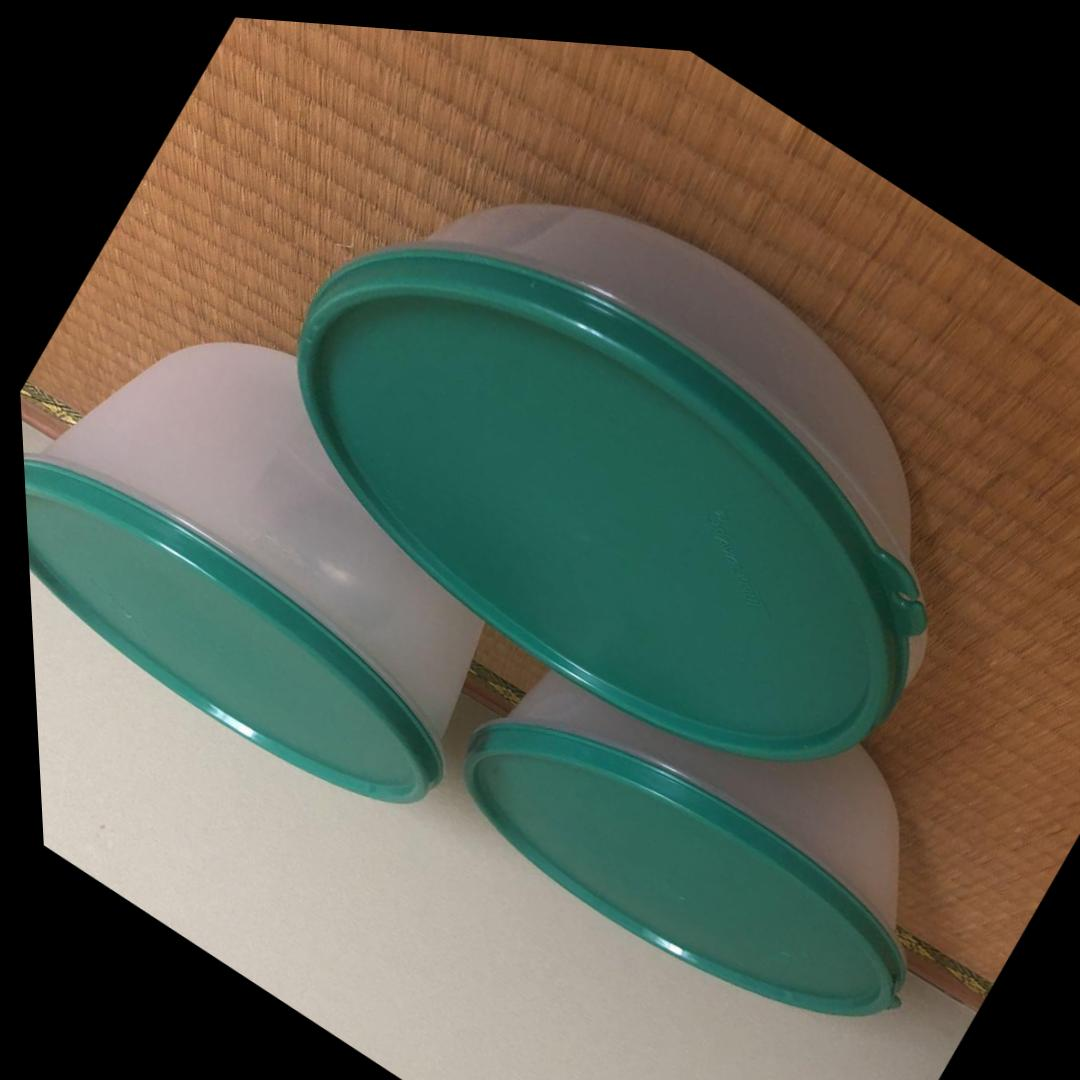plastic: (204, 57, 1065, 867), (13, 243, 594, 877), (418, 551, 1013, 1080)
